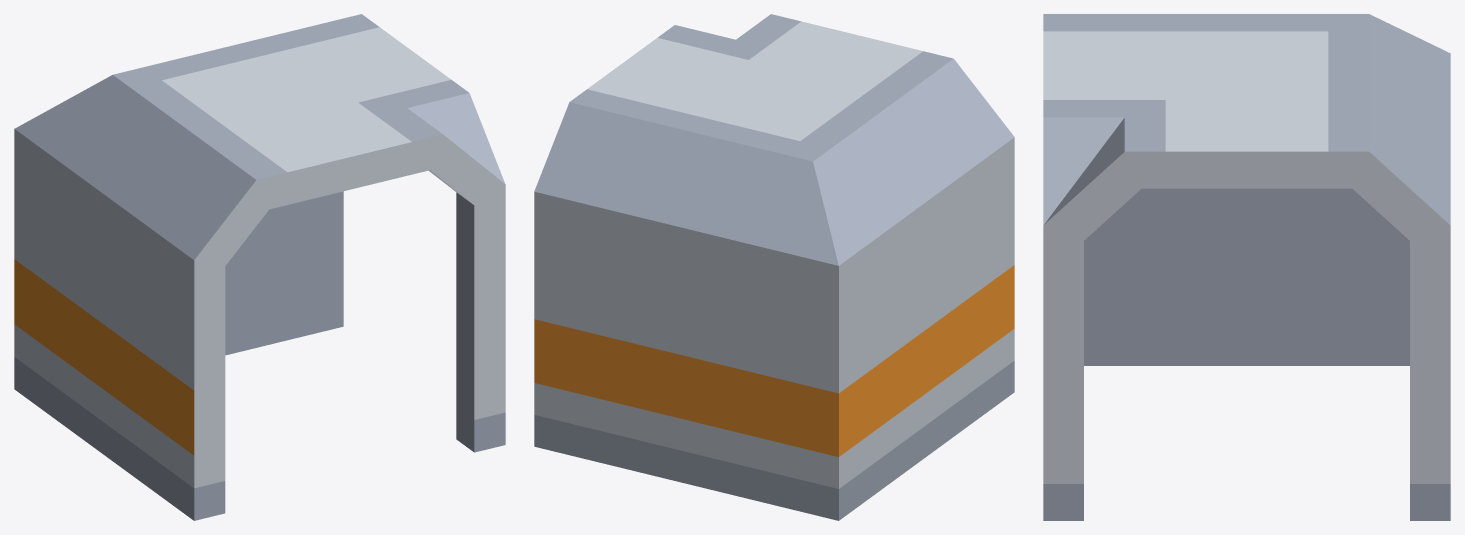
File: corridor_corner.glb
3 renders of one model, left to right at view 1: azimuth 30°, elevation 25°; view 2: azimuth 150°, elevation 25°; view 3: azimuth 270°, elevation 25°, orthographic. The views are drawn at different scales.
Visible parts, largest first — view 1: corridor_corner; view 2: corridor_corner; view 3: corridor_corner.
Part boxes in pixels (bbox=[...]): corridor_corner: bbox=[14, 14, 505, 520]; corridor_corner: bbox=[534, 14, 1014, 520]; corridor_corner: bbox=[1043, 14, 1450, 520].
Size of the model in its own units: 1 by 1 by 1.
